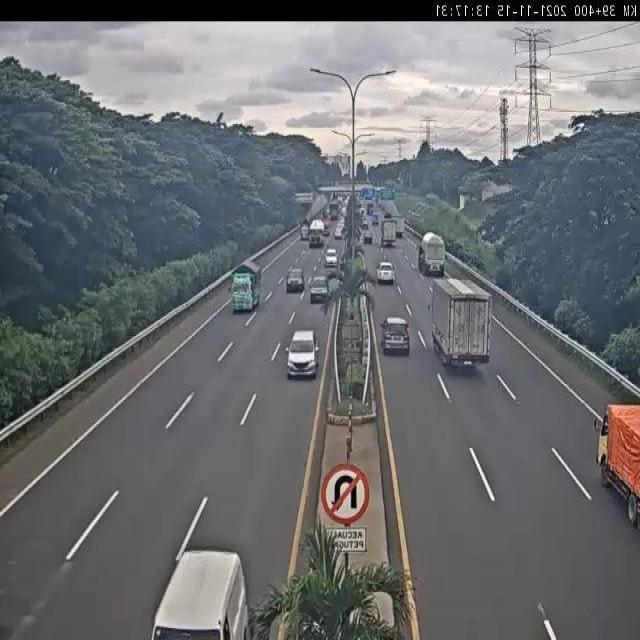Car: (285, 330, 321, 380), (380, 316, 410, 356), (309, 275, 329, 304), (286, 267, 304, 293), (376, 261, 395, 284), (326, 275, 341, 299), (324, 248, 338, 268), (334, 225, 345, 240), (300, 223, 309, 241), (363, 230, 373, 244), (323, 218, 332, 232), (372, 213, 379, 226), (367, 202, 374, 215), (360, 206, 366, 217)
Truck: (592, 403, 640, 528), (430, 278, 491, 364), (229, 261, 264, 314), (417, 233, 447, 278), (310, 219, 324, 247)
Van: (150, 550, 249, 640)
